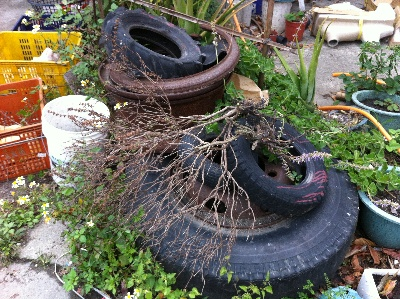bucket: (40, 92, 111, 191)
tire: (126, 129, 360, 299), (225, 113, 330, 219), (102, 7, 204, 80)
